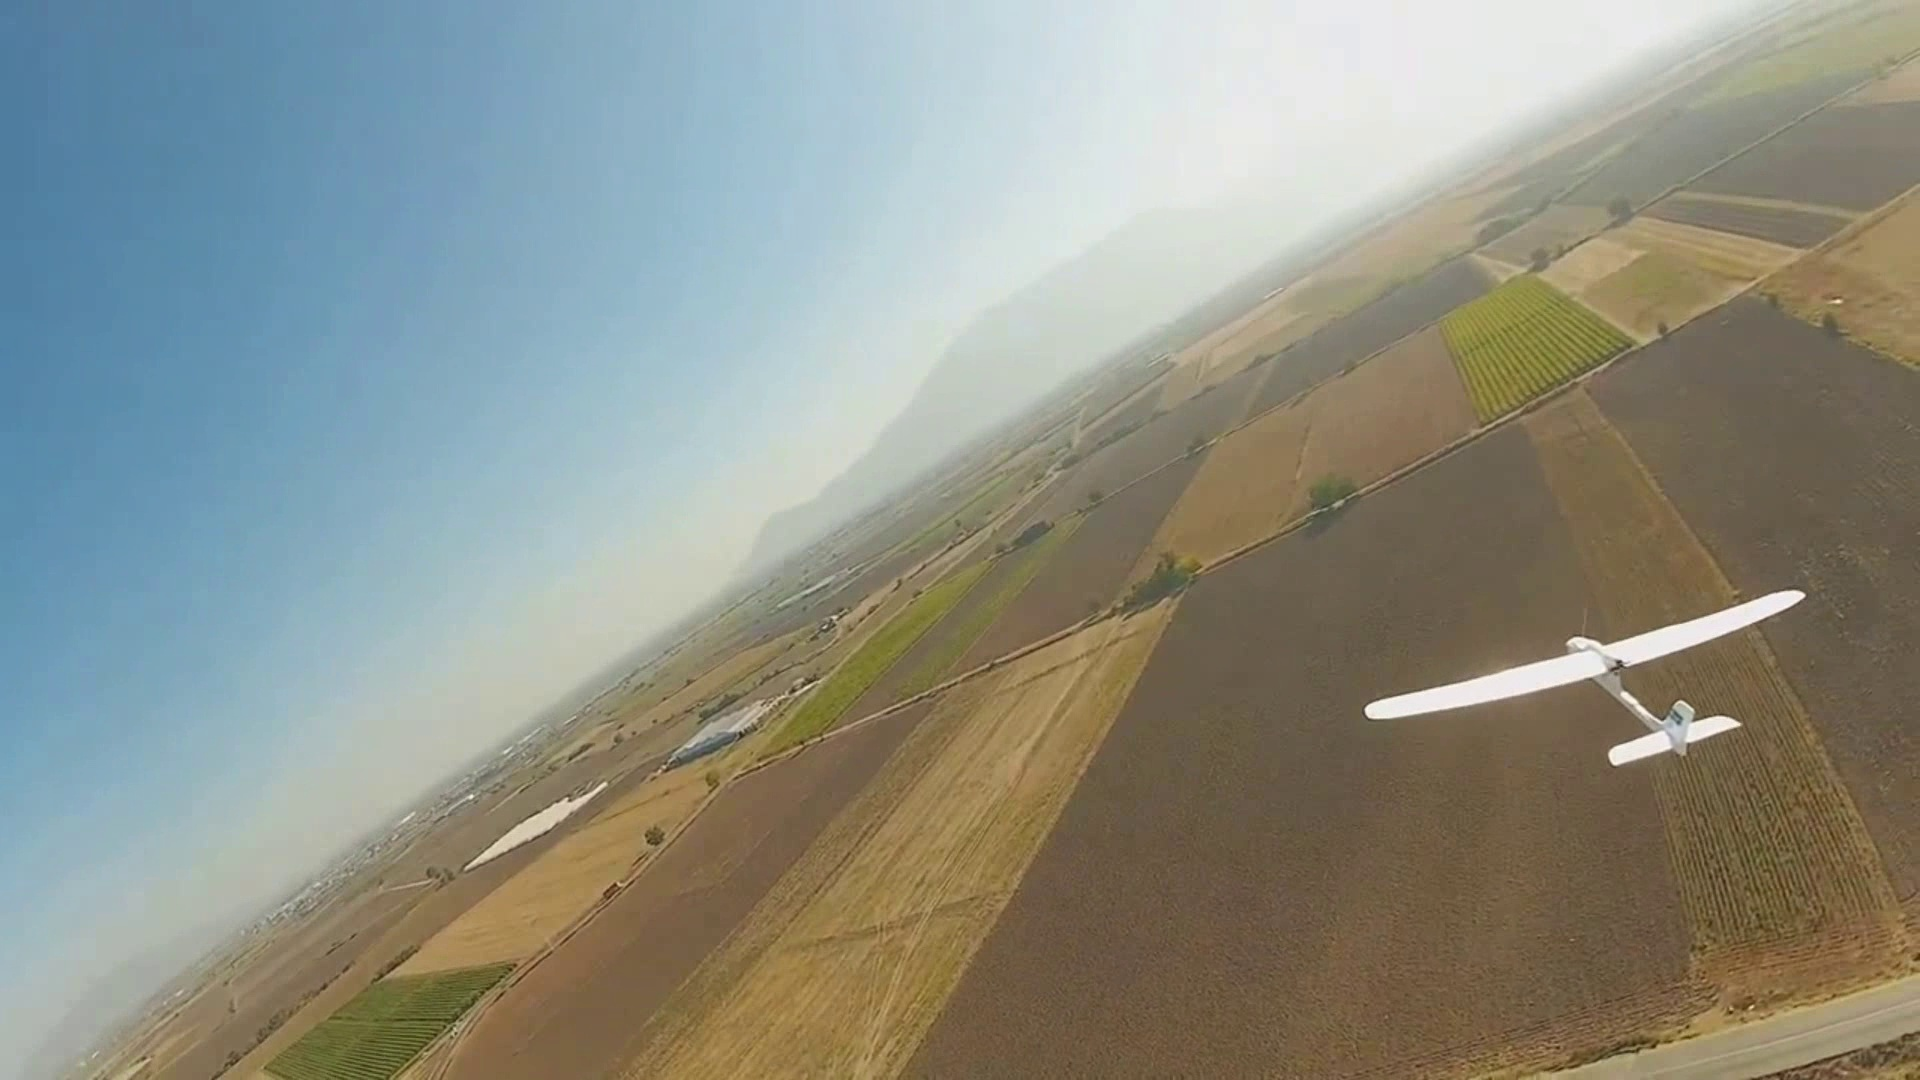airplane: (17, 21, 1909, 1064), (1364, 589, 1809, 771)
